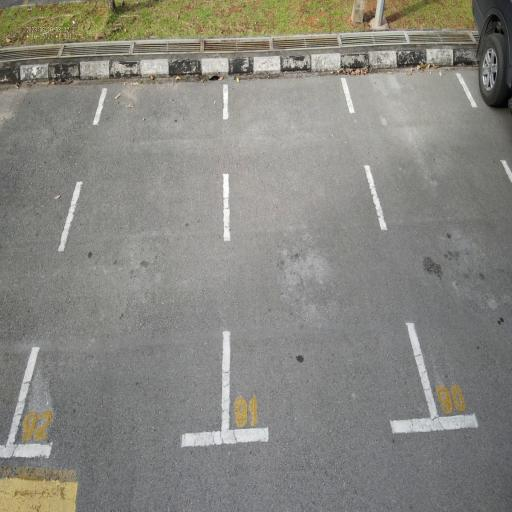Empty: (2, 79, 236, 465), (220, 74, 444, 444)
